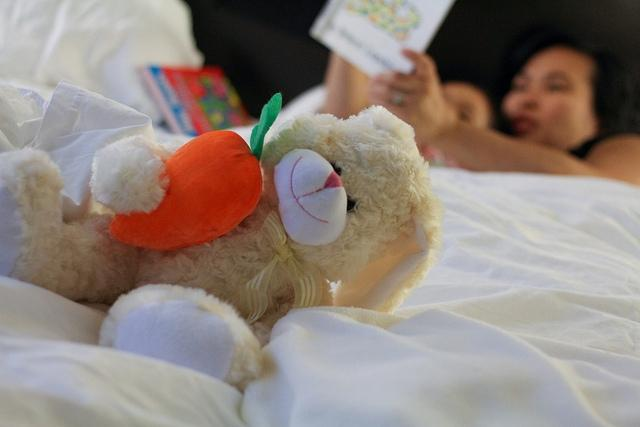carrot: (108, 92, 282, 250)
